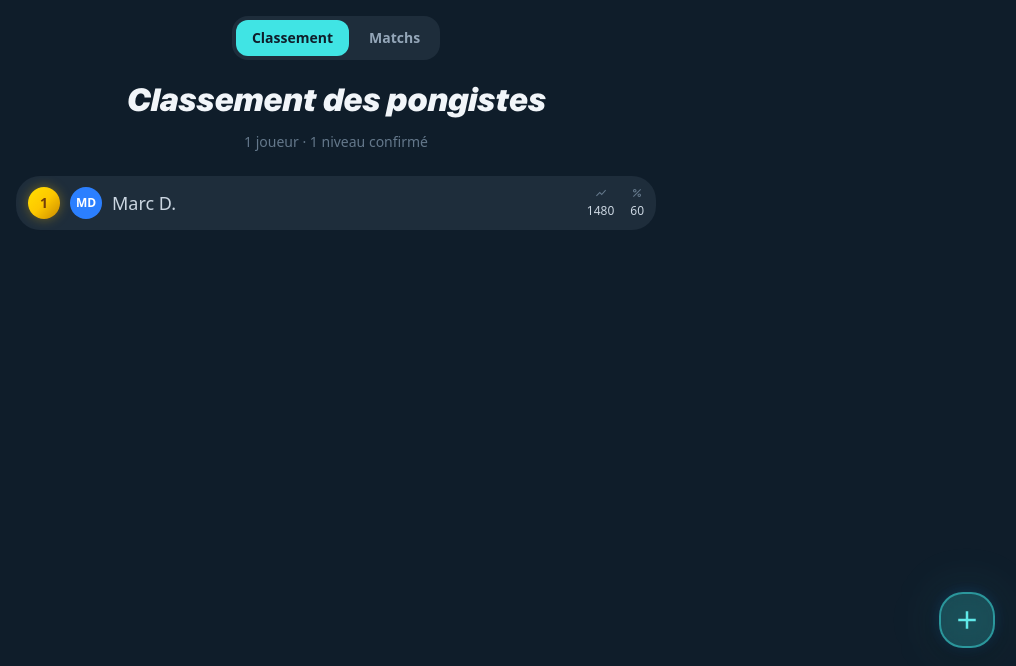
Scenario: PingpongPage › the heading follows the selected panel › titles the page with the matches once Matchs is picked
Click the tab "Matchs": [395, 38] box [353,20,436,56]
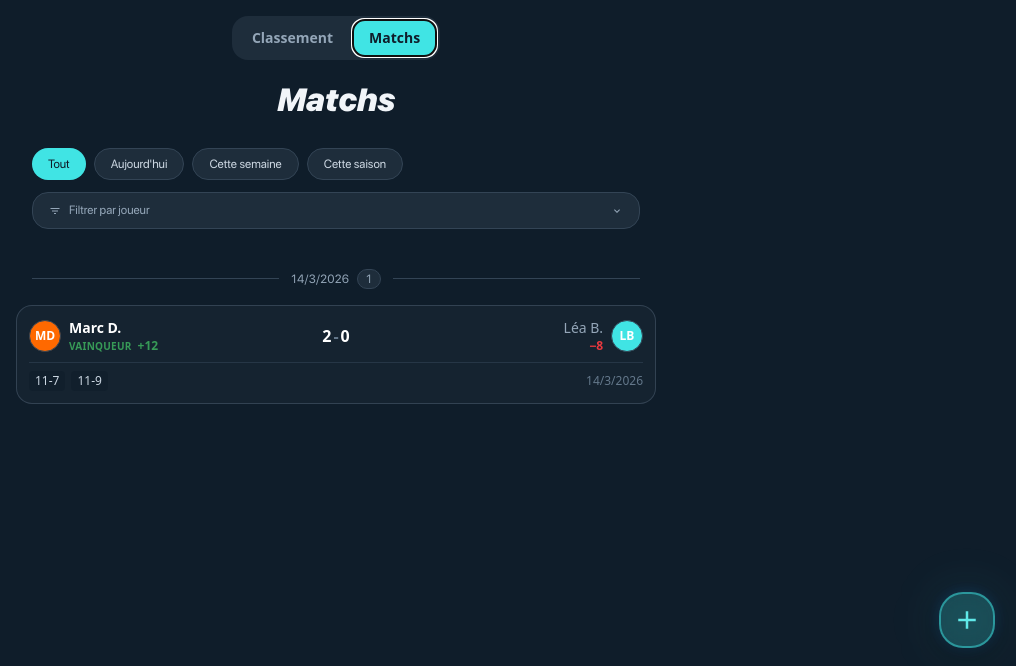
Expected: the heading "Matchs" is shown, [277,76,395,124]
